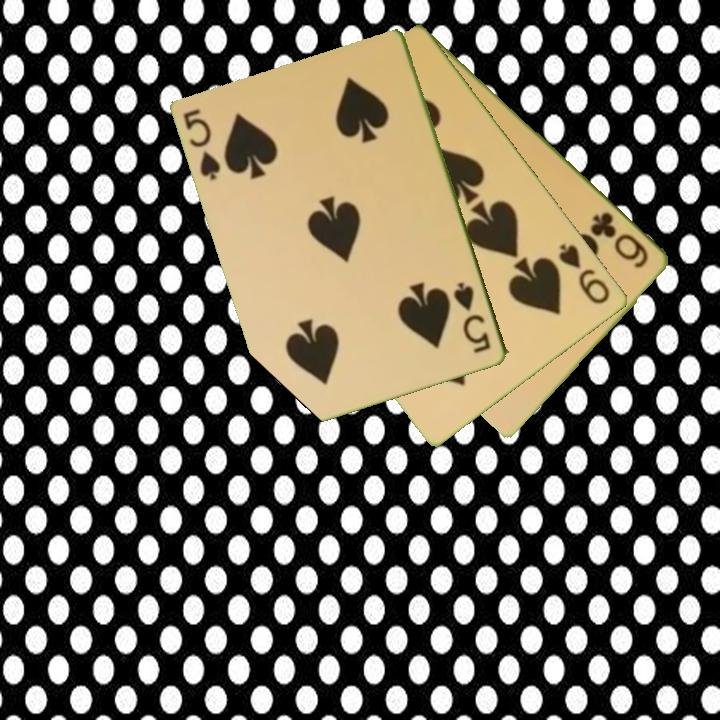5s: (180, 105, 225, 184), (450, 278, 494, 357)
6c: (587, 208, 652, 271)
9s: (555, 240, 614, 308)
